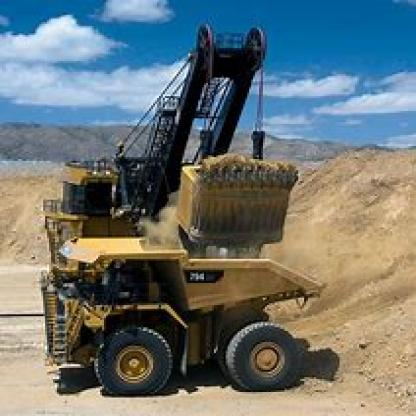dump_truck: (24, 227, 338, 407)
